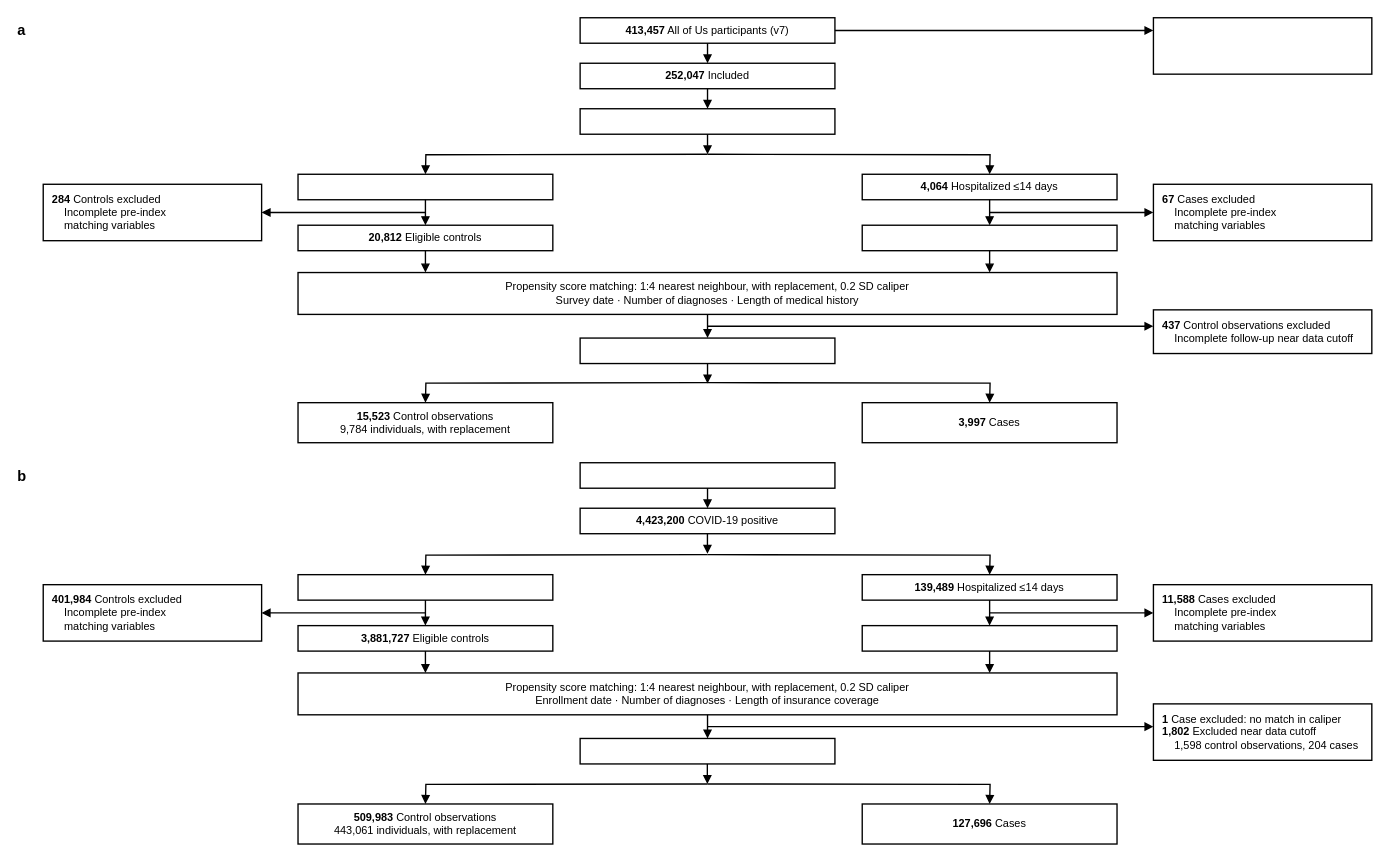
This 1388x860 diagram has some shape labels left out. The box of each missing label's shape, as (x1, y1, x2, y2) in pixels:
127,901 Eligible cases: (861, 625, 1117, 651)
161,410 Excluded No diagnosis data No Basics Survey: (1152, 17, 1372, 74)
19,520 Observations in 3,997 strata: (579, 337, 835, 364)
21,096 Outpatient only: (297, 173, 553, 200)
25,160 COVID-19 positive: (579, 108, 835, 134)
3,997 Eligible cases: (861, 224, 1117, 251)
4,283,711 Outpatient only: (297, 574, 553, 600)
637,679 Observations in 127,696 strata: (579, 737, 835, 764)
MarketScan Commercial Claims, 2020–2023: (579, 462, 835, 488)
